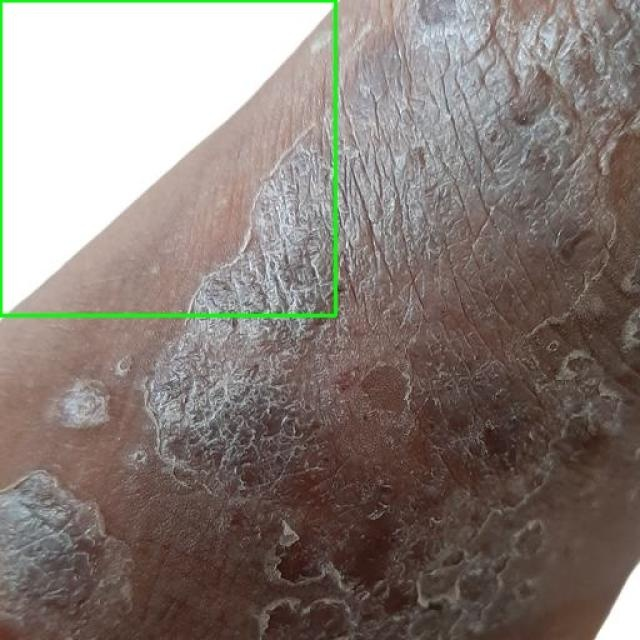Contact Dermatitis: (0, 0, 335, 315)
